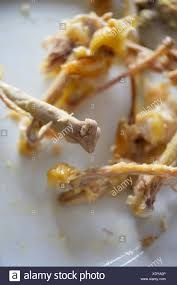kitchen_waste: (17, 7, 132, 158), (1, 73, 109, 166), (46, 151, 177, 216)
